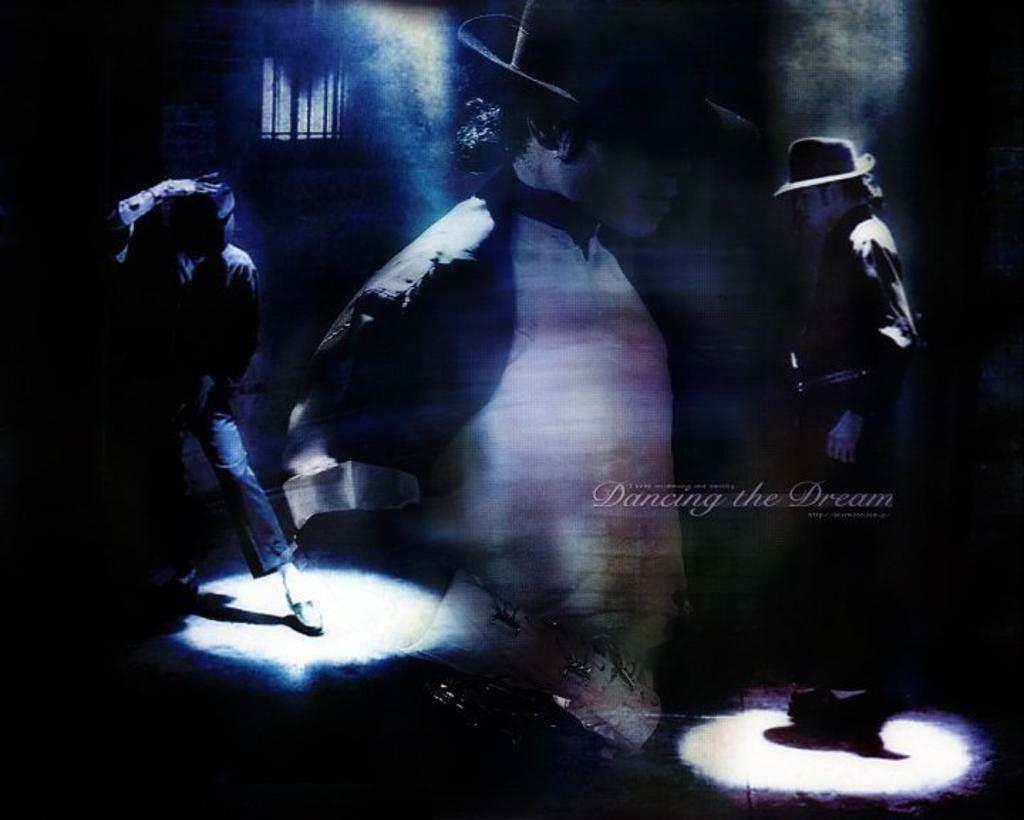face: (560, 87, 697, 231), (793, 172, 833, 236)
